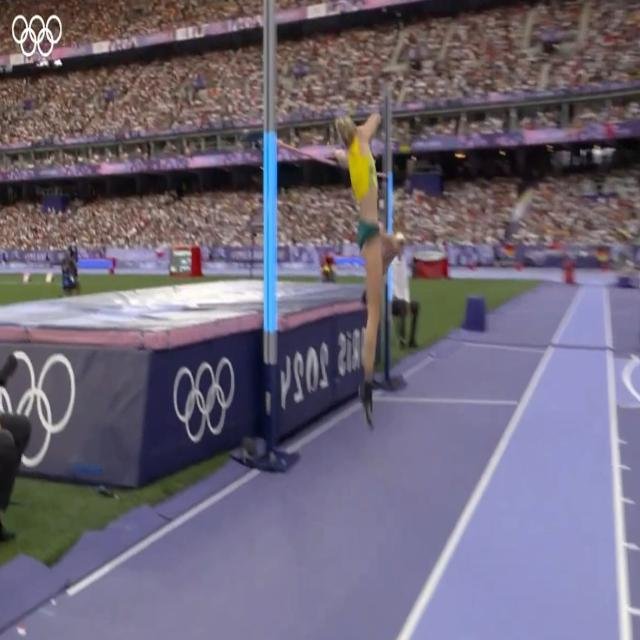jump: (334, 100, 396, 433)
